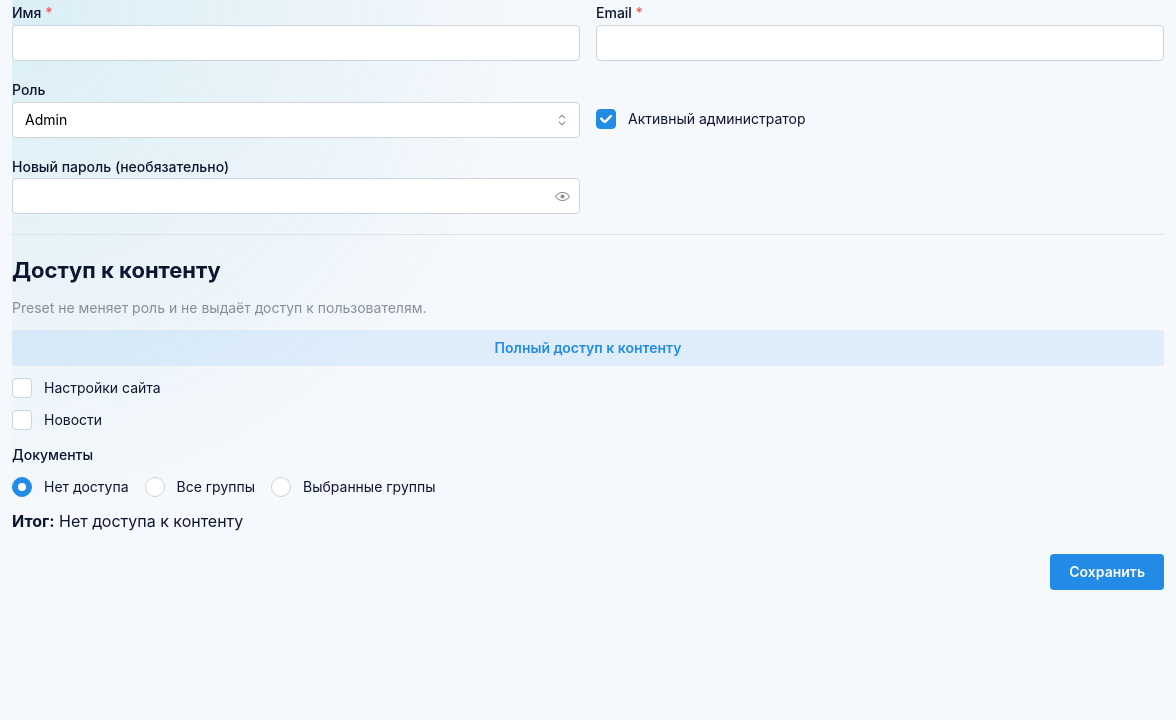
Test: AdminUserForm permissions › warns that empty selected document groups grant no access
Click the radio button labelled "Выбранные группы" at (281, 487), box [271, 477, 291, 497]
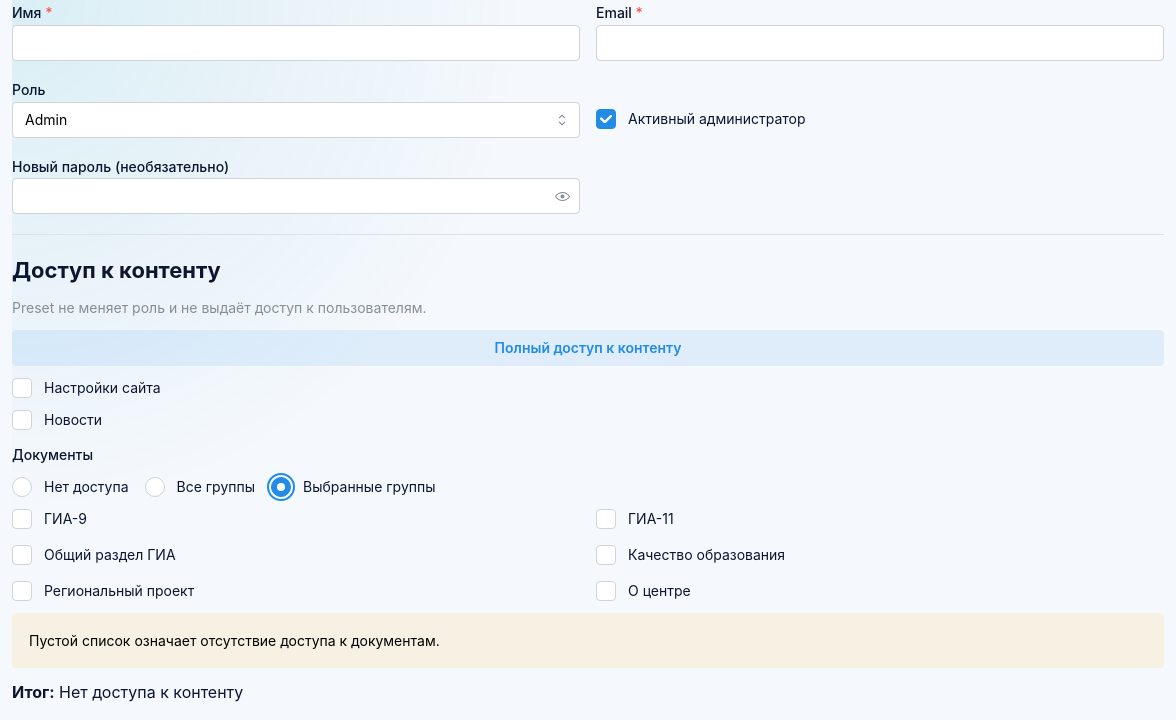
Check: the text "Пустой список означает отсутствие доступа к документам." is shown, box [29, 632, 440, 649]
